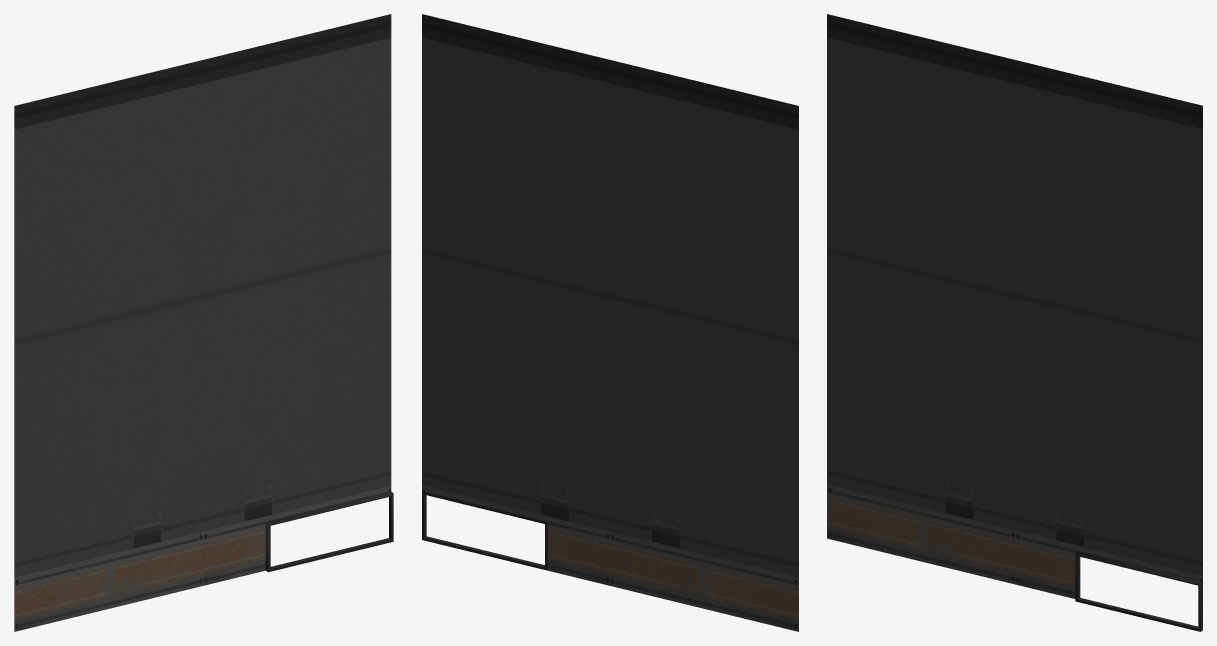
The model's file is WallVariation6.fbx.
3 renders of one model, left to right at view 1: azimuth 30°, elevation 25°; view 2: azimuth 150°, elevation 25°; view 3: azimuth 330°, elevation 25°, orthographic.
Parts seen in each view (by area): view 1: WallVariation8.001; view 2: WallVariation8.001; view 3: WallVariation8.001.
Part boxes in pixels (x1,y1,x2,y2): WallVariation8.001: (14,14,393,631); WallVariation8.001: (422,14,798,631); WallVariation8.001: (827,14,1202,631).
Bounding box in the file's own units: 300 × 400 × 3.22.
